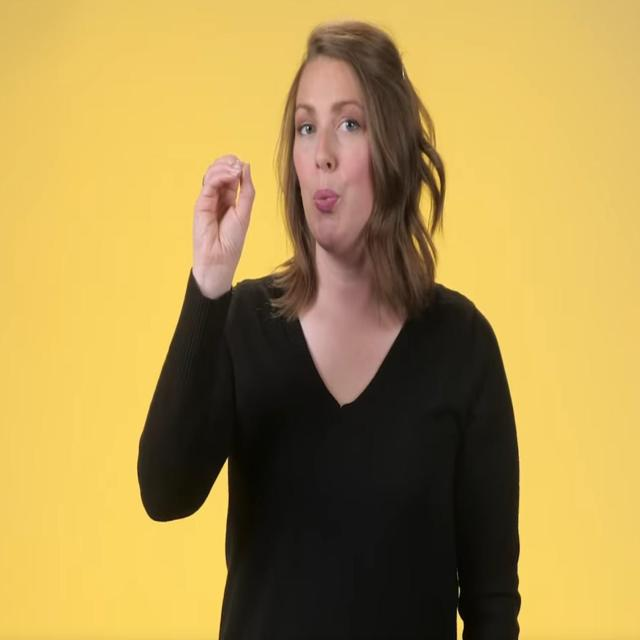O: (190, 150, 258, 263)
